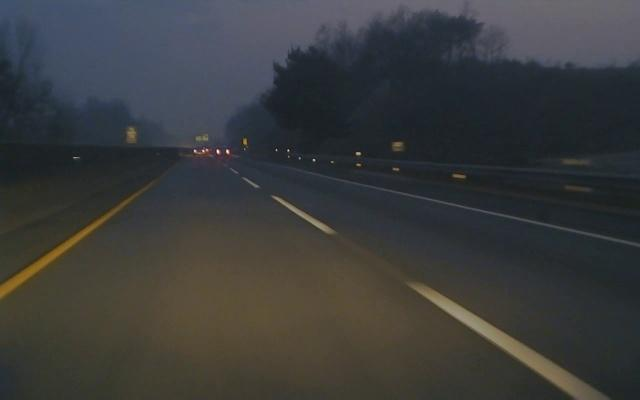lane: (231, 168, 613, 398), (330, 178, 639, 248), (1, 189, 142, 299)
